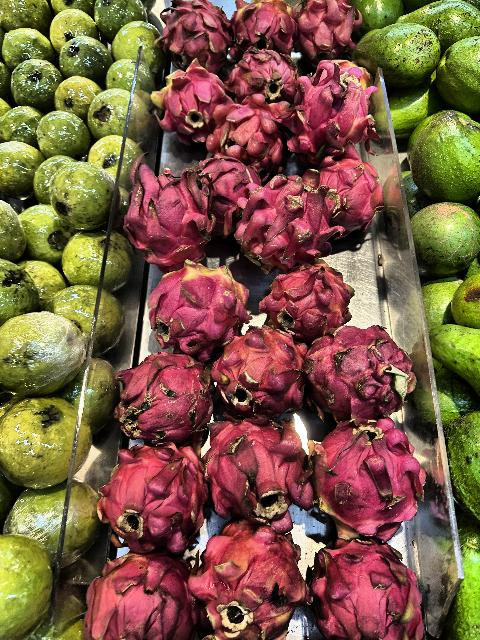buah-naga-belum-matang: (200, 519, 306, 637), (144, 263, 256, 351), (147, 64, 225, 142), (230, 0, 298, 58)
buah-naga-matang: (310, 530, 420, 640), (306, 416, 408, 534), (122, 157, 224, 263), (87, 548, 195, 640), (236, 167, 338, 263), (206, 322, 302, 418), (102, 438, 204, 524), (113, 340, 205, 432), (205, 428, 300, 514), (306, 336, 412, 410), (294, 61, 374, 159), (258, 264, 359, 336), (207, 99, 295, 173), (318, 154, 392, 222), (158, 1, 232, 67), (231, 44, 305, 108), (296, 0, 359, 60), (198, 152, 254, 214)
